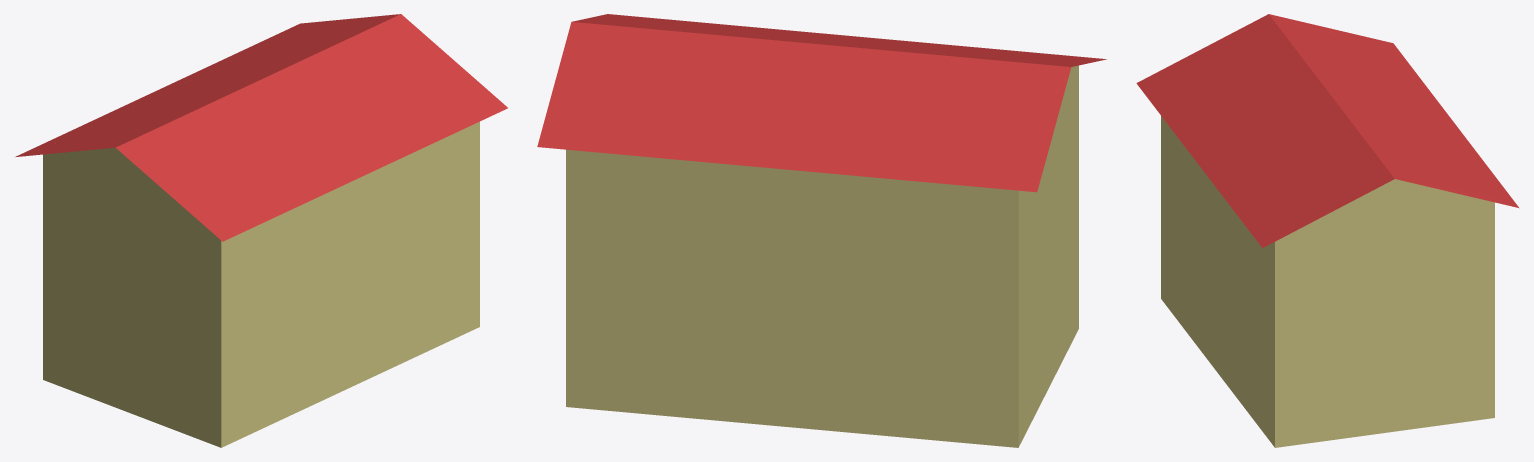
The picture shows the model from 3 angles, left to right: view 1: azimuth 30°, elevation 25°; view 2: azimuth 150°, elevation 25°; view 3: azimuth 270°, elevation 25°; orthographic projection. The views are drawn at different scales.
Visible parts, largest first — view 1: group_5, group_3, group_4; view 2: group_5, group_3, group_4; view 3: group_5, group_3, group_4.
Part boxes in pixels (x1,y1,x2,y2): group_5: (43, 121, 479, 447); group_3: (44, 14, 507, 240); group_4: (15, 14, 401, 241); group_5: (566, 65, 1078, 447); group_3: (566, 14, 1095, 171); group_4: (537, 22, 1106, 192); group_5: (1161, 116, 1494, 447); group_3: (1137, 14, 1494, 247); group_4: (1136, 14, 1519, 208).
Bounding box in the file's own units: 18.22 × 14.75 × 11.09.
